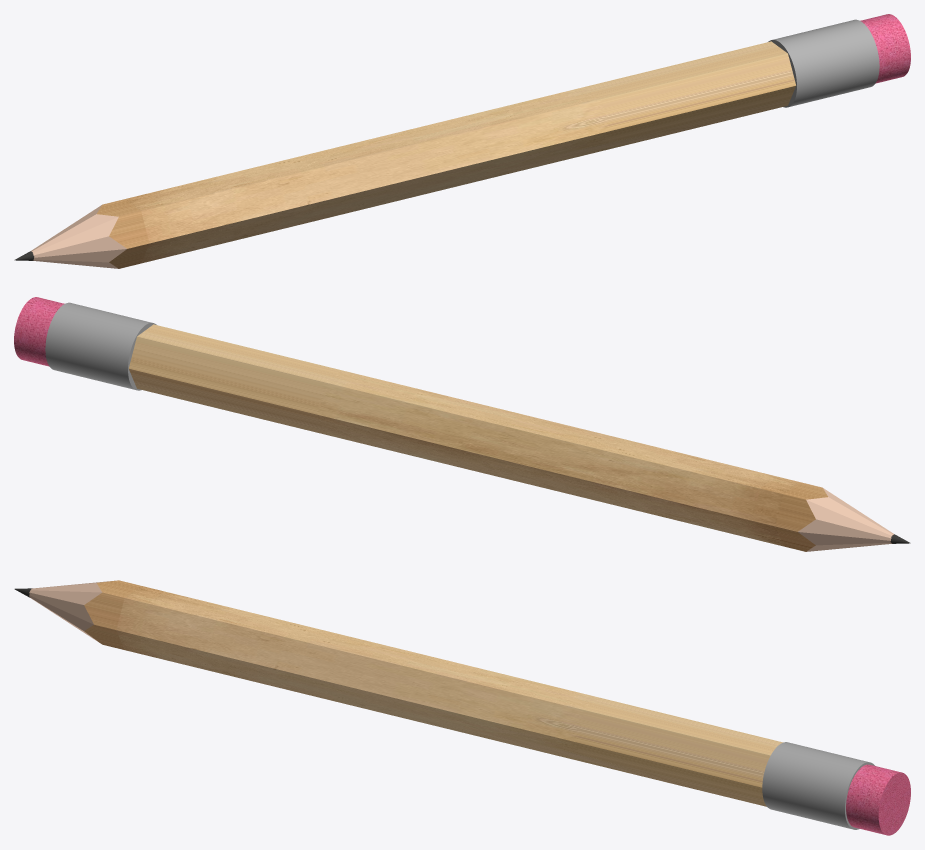
The model's file is school_pencil.glb.
The picture shows the model from 3 angles, top to bottom: view 1: azimuth 30°, elevation 25°; view 2: azimuth 150°, elevation 25°; view 3: azimuth 330°, elevation 25°; orthographic projection.
Visible parts, largest first — view 1: Cylinder, Cylinder.003, Cylinder.002, Cylinder.004; view 2: Cylinder, Cylinder.003, Cylinder.002, Cylinder.004; view 3: Cylinder, Cylinder.003, Cylinder.004, Cylinder.002.
Boxes of the visible parts, <box> form: Cylinder: <box>97,41,796,268</box>; Cylinder.003: <box>768,19,879,107</box>; Cylinder.002: <box>31,205,126,268</box>; Cylinder.004: <box>860,14,910,83</box>; Cylinder: <box>128,324,827,551</box>; Cylinder.003: <box>45,302,156,390</box>; Cylinder.002: <box>798,488,893,551</box>; Cylinder.004: <box>14,297,64,366</box>; Cylinder: <box>84,580,783,806</box>; Cylinder.003: <box>762,742,874,829</box>; Cylinder.004: <box>846,764,910,835</box>; Cylinder.002: <box>29,580,114,642</box>.
Size of the model in its own units: 30.59 by 2.08 by 2.08.
Materials: 5 (3 with a texture image).
